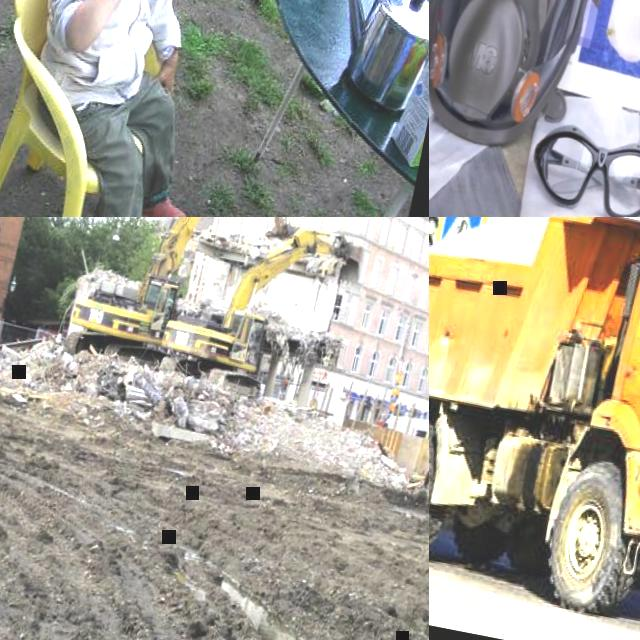machinery: (429, 217, 640, 640), (62, 217, 324, 392), (156, 217, 352, 410)
mask: (429, 0, 623, 157)
no_vest: (41, 0, 171, 109)
person: (0, 0, 268, 217)
vehicle: (384, 411, 429, 441)
